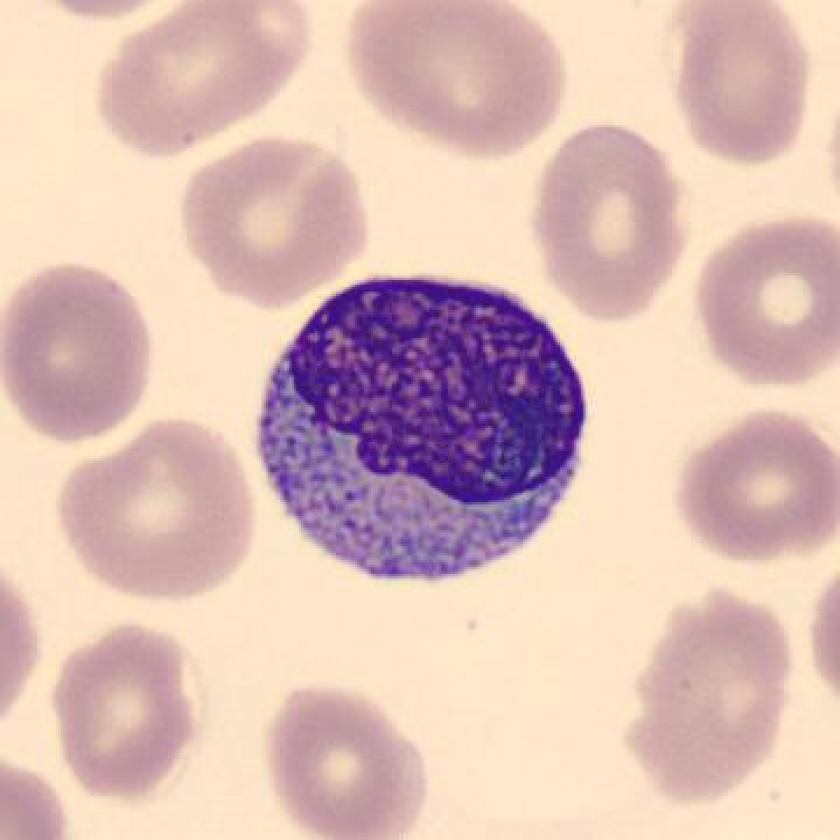monocyte: (241, 260, 603, 612)
